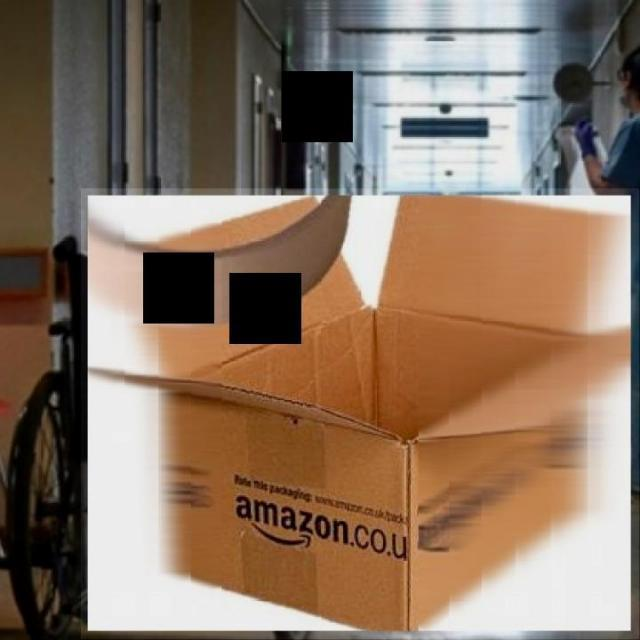box: (81, 188, 639, 640)
